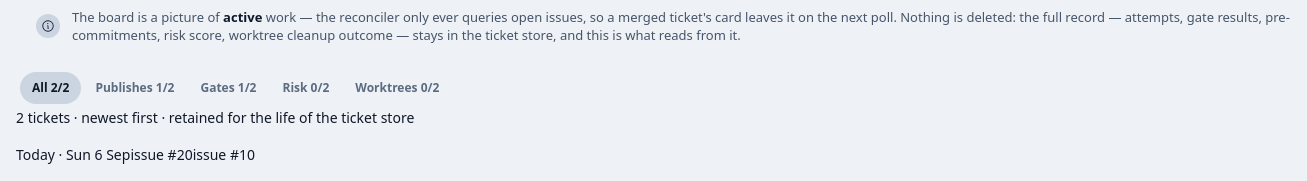
Test case: ActivityScreen + ActivityFilterBar, wired through useActivityFilter › clicking a tab actually filters the rendered rows down to that category
Expected: the text "issue #10" is shown, x1=193 y1=145 x2=255 y2=164
Expected: the text "issue #20" is shown, x1=130 y1=145 x2=193 y2=164
Step 1. Click the button "Gates 1/2" → {"x": 228, "y": 88}, box x1=188 y1=72 x2=268 y2=104
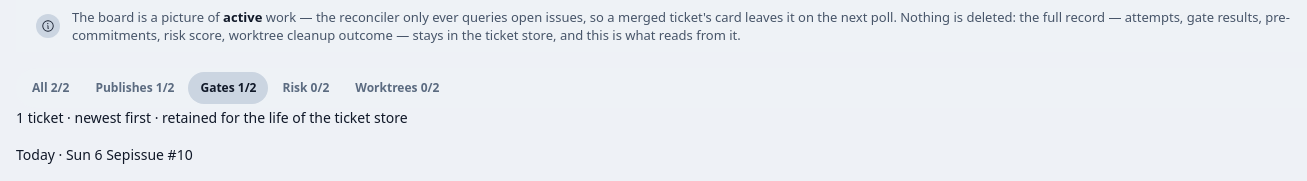
Expected: the text "issue #10" is shown, x1=130 y1=145 x2=193 y2=164
Result: the text "issue #20" is gone
